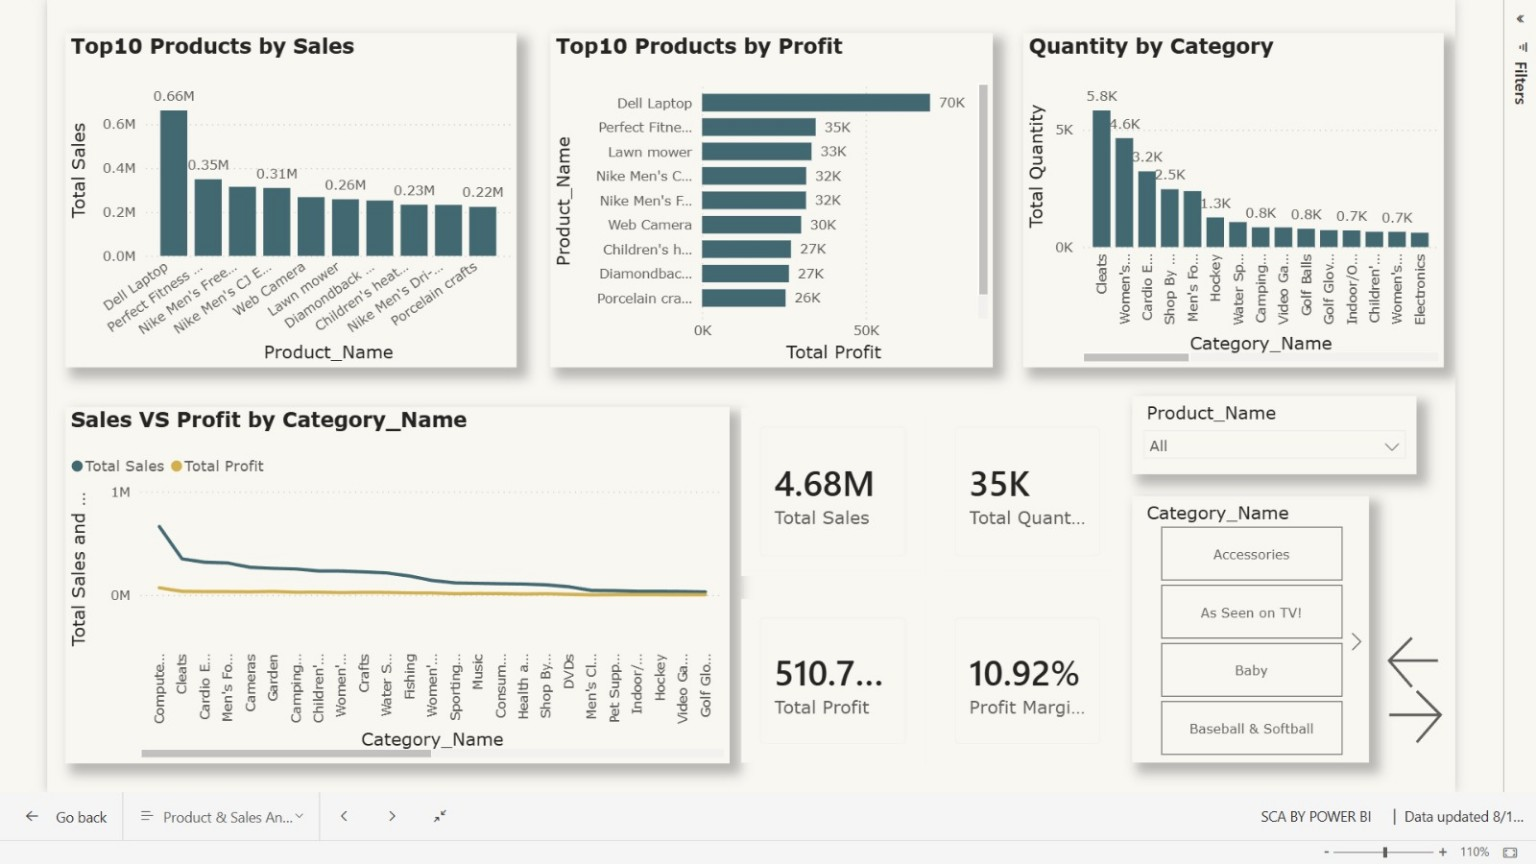

What the dashboard file says about the page in this screenshot:
{"tool":"powerbi","page":{"name":"Product & Sales Analysis","canvas":[1280,720],"ordinal":2},"visuals":[{"type":"columnChart","title":"Top10 Products by Sales","fields":{"Category":["Dim_Product.Product_Name"],"Y":["Fact_Order.Total Sales"]},"box":[16.2,30,410,303.8],"z":0},{"type":"clusteredBarChart","title":"Top10 Products by Profit","fields":{"Category":["Dim_Product.Product_Name"],"Y":["Fact_Order.Total Profit"]},"box":[457.5,30,402.5,303.8],"z":1},{"type":"lineChart","title":"Sales VS Profit by Category_Name","fields":{"Category":["Dim_Product.Category_Name"],"Y":["Fact_Order.Total Sales","Fact_Order.Total Profit"]},"box":[16.2,370,603.8,323.8],"z":2},{"type":"clusteredColumnChart","title":"Quantity by Category","fields":{"Category":["Dim_Product.Category_Name"],"Y":["Fact_Order.Total Quantity"]},"box":[887.5,30,382.5,303.8],"z":3},{"type":"slicer","fields":{"Values":["Dim_Product.Category_Name"]},"box":[986.2,451.2,215,242.5],"z":4},{"type":"slicer","fields":{"Values":["Dim_Product.Product_Name"]},"box":[986.2,360,258.8,71.2],"z":5},{"type":"actionButton","box":[1212.5,572.5,63.8,58.8],"z":6},{"type":"actionButton","box":[1212.5,621.2,63.8,61.2],"z":7},{"type":"cardVisual","fields":{"Data":["Fact_Order.Total Sales"]},"box":[631,370.5,167.5,152.9],"z":8},{"type":"cardVisual","fields":{"Data":["Fact_Order.Total Profit"]},"box":[631,544.2,167.5,149.2],"z":9},{"type":"cardVisual","fields":{"Data":["Fact_Order.Total Quantity"]},"box":[808.3,370.5,166.3,152.9],"z":11},{"type":"cardVisual","fields":{"Data":["Fact_Order.Profit Margin %"]},"box":[808.3,544.2,166.3,149.2],"z":12}]}

Visuals, with their boxes on the page's 1280x720 design canvas (x1, y1, x2, y2). These are canvas units, not pixel positions in the 1536x864 screenshot, which may show the page scaled, cropped or inside an application window:
"Top10 Products by Sales" columnChart: {"left": 16, "top": 30, "right": 426, "bottom": 334}
"Top10 Products by Profit" clusteredBarChart: {"left": 458, "top": 30, "right": 860, "bottom": 334}
"Sales VS Profit by Category_Name" lineChart: {"left": 16, "top": 370, "right": 620, "bottom": 694}
"Quantity by Category" clusteredColumnChart: {"left": 888, "top": 30, "right": 1270, "bottom": 334}
slicer - Dim_Product.Category_Name: {"left": 986, "top": 451, "right": 1201, "bottom": 694}
slicer - Dim_Product.Product_Name: {"left": 986, "top": 360, "right": 1245, "bottom": 431}
actionButton: {"left": 1212, "top": 572, "right": 1276, "bottom": 631}
actionButton: {"left": 1212, "top": 621, "right": 1276, "bottom": 682}
cardVisual - Fact_Order.Total Sales: {"left": 631, "top": 370, "right": 798, "bottom": 523}
cardVisual - Fact_Order.Total Profit: {"left": 631, "top": 544, "right": 798, "bottom": 693}
cardVisual - Fact_Order.Total Quantity: {"left": 808, "top": 370, "right": 975, "bottom": 523}
cardVisual - Fact_Order.Profit Margin %: {"left": 808, "top": 544, "right": 975, "bottom": 693}
